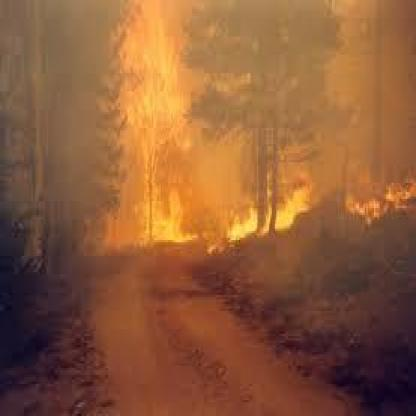fire: (108, 11, 206, 262), (333, 164, 411, 238), (220, 193, 302, 240)
